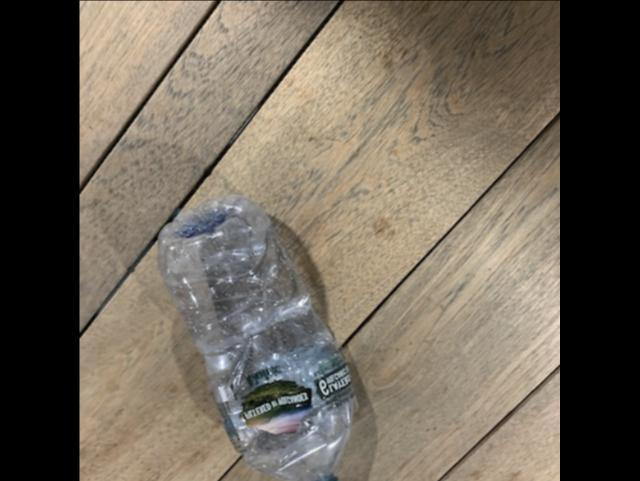plastic: (158, 193, 351, 481)
